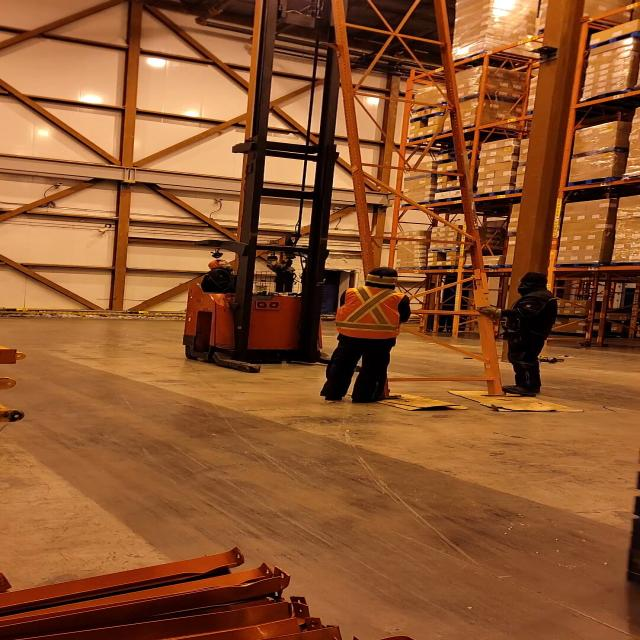forklift: (178, 139, 374, 376)
human: (316, 265, 416, 407), (475, 269, 562, 400), (190, 255, 258, 296)
objectofinterest: (327, 4, 515, 400), (443, 386, 589, 414), (357, 389, 460, 413)
